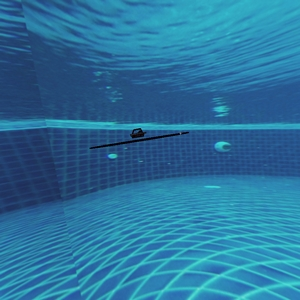circle: (92, 112, 201, 169)
submarine: (132, 125, 145, 140)
